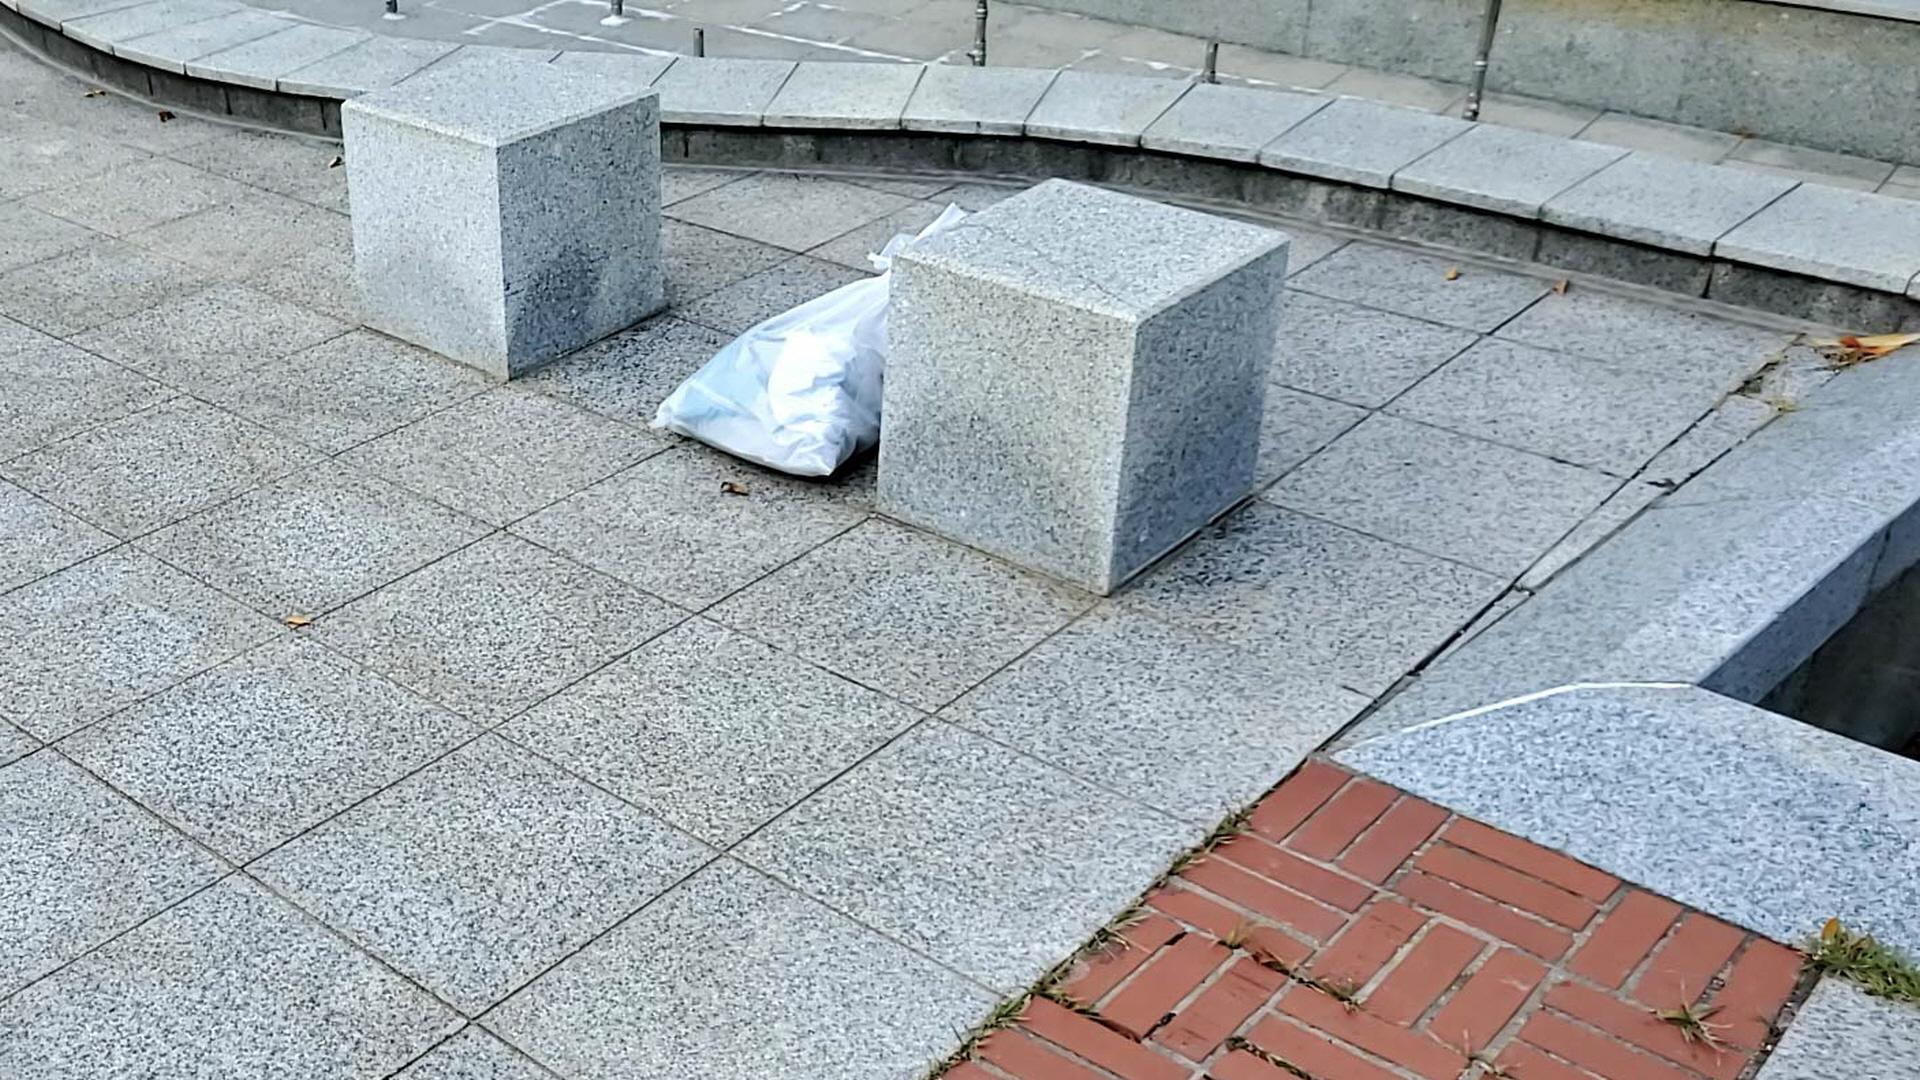white_bag: (640, 196, 1000, 491)
